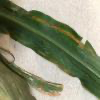Corn leaf blight: (1, 0, 100, 74)
